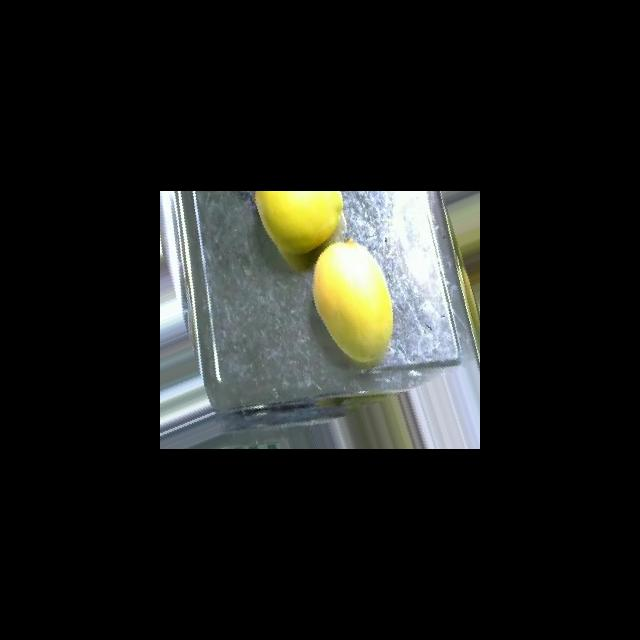mango: (312, 239, 393, 364), (254, 191, 343, 255)
